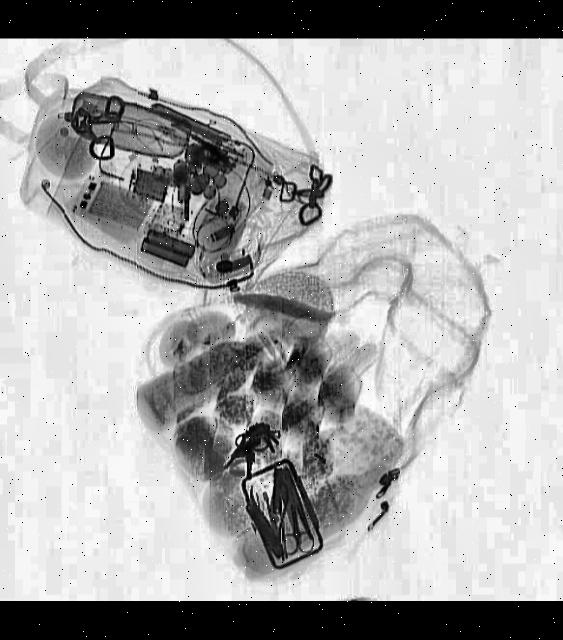Scissors: (275, 492, 315, 557)
